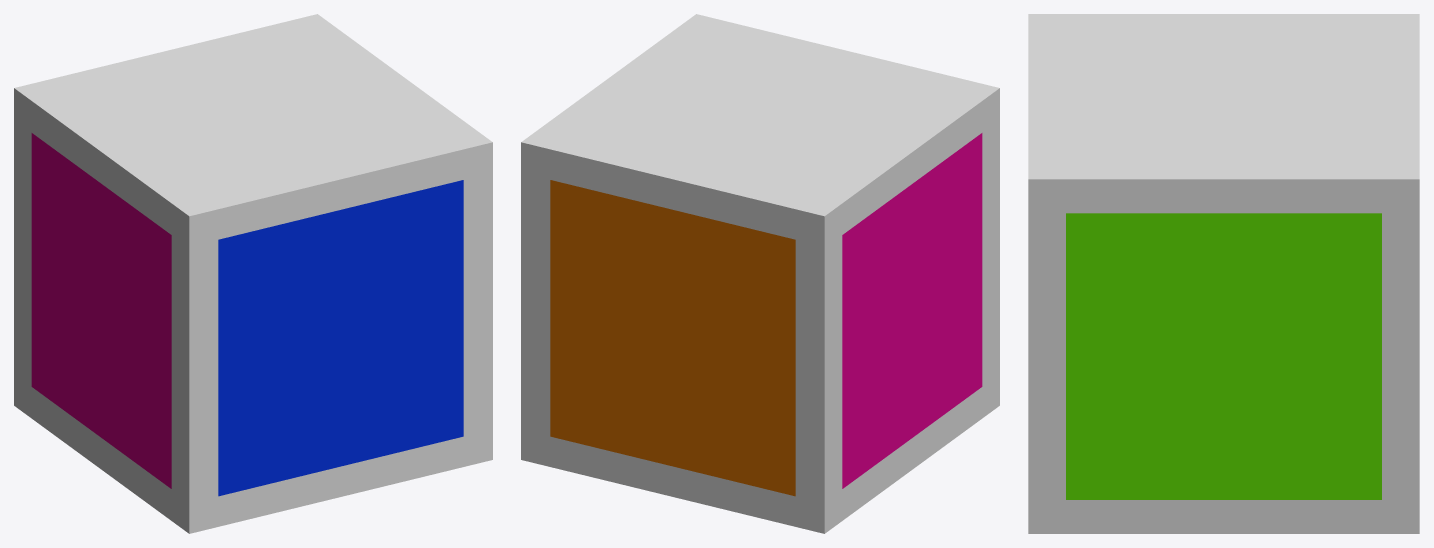
The model's file is ImpossibleCube.fbx.
3 renders of one model, left to right at view 1: azimuth 30°, elevation 25°; view 2: azimuth 150°, elevation 25°; view 3: azimuth 270°, elevation 25°, orthographic. The views are drawn at different scales.
Parts seen in each view (by area): view 1: Cube; view 2: Cube; view 3: Cube.
Part boxes in pixels (left/top/right/bottom): Cube: left=14, top=14, right=492, bottom=533; Cube: left=521, top=14, right=999, bottom=533; Cube: left=1028, top=14, right=1419, bottom=533.
Size of the model in its own units: 500 by 500 by 500.
